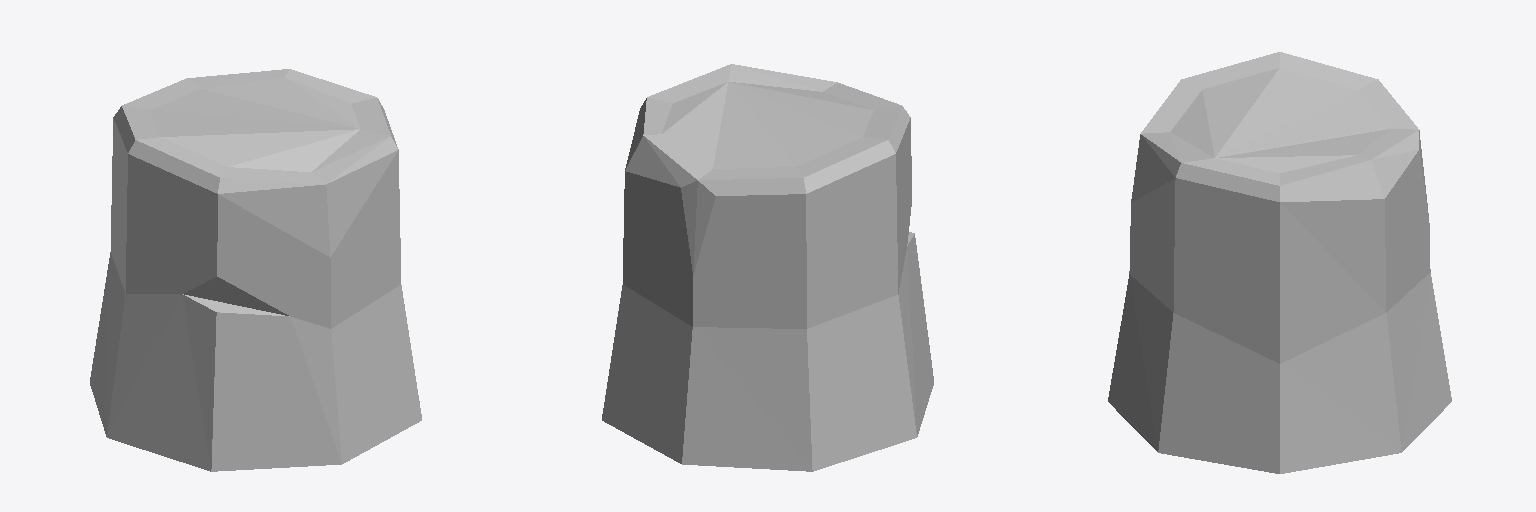
File: TreeTrunk_1.obj
3 views of the same model, side by side, from view 1: azimuth 30°, elevation 25°; view 2: azimuth 150°, elevation 25°; view 3: azimuth 270°, elevation 25° (orthographic).
Visible parts, largest first — view 1: TreeTrunk_1; view 2: TreeTrunk_1; view 3: TreeTrunk_1.
Boxes of the visible parts, box(x1,y1,x2,y2) form: TreeTrunk_1: box(90, 69, 421, 471); TreeTrunk_1: box(602, 64, 933, 471); TreeTrunk_1: box(1108, 52, 1451, 473).
Size of the model in its own units: 0.8299 by 0.7736 by 0.8299.